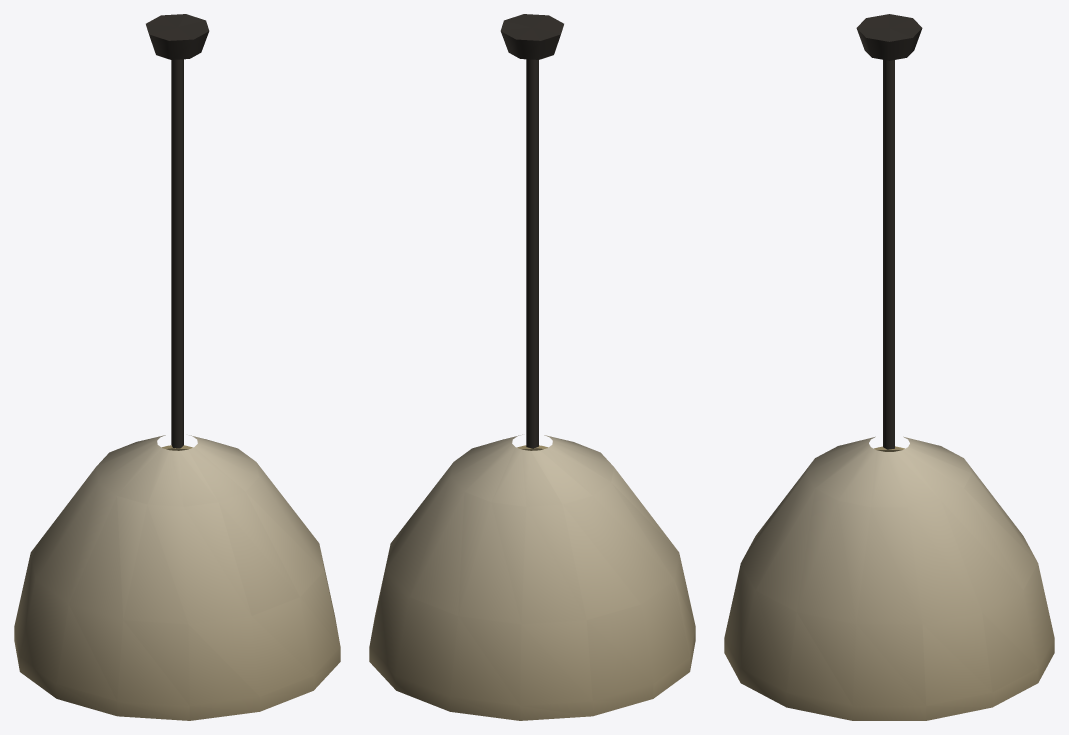
File: pendant_light.glb
3 renders of one model, left to right at view 1: azimuth 30°, elevation 25°; view 2: azimuth 150°, elevation 25°; view 3: azimuth 270°, elevation 25°, orthographic.
Visible parts, largest first — view 1: pendant_light; view 2: pendant_light; view 3: pendant_light.
Part boxes in pixels (x1,y1,x2,y2): pendant_light: [14, 14, 340, 720]; pendant_light: [369, 14, 695, 720]; pendant_light: [724, 14, 1054, 720].
Bounding box in the file's own units: 0.39 × 0.835 × 0.4.
